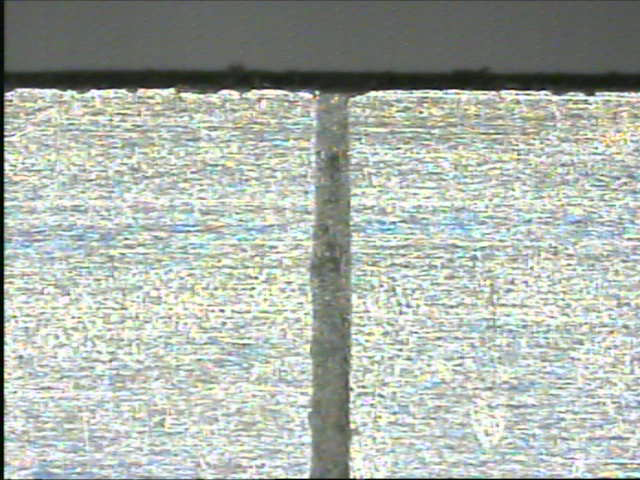line: (306, 91, 353, 478)
